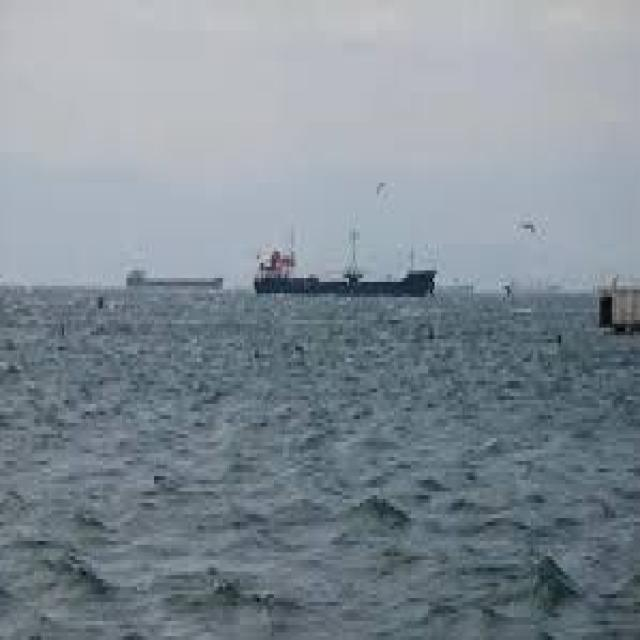cargoship: (252, 228, 433, 294), (124, 258, 221, 294)
